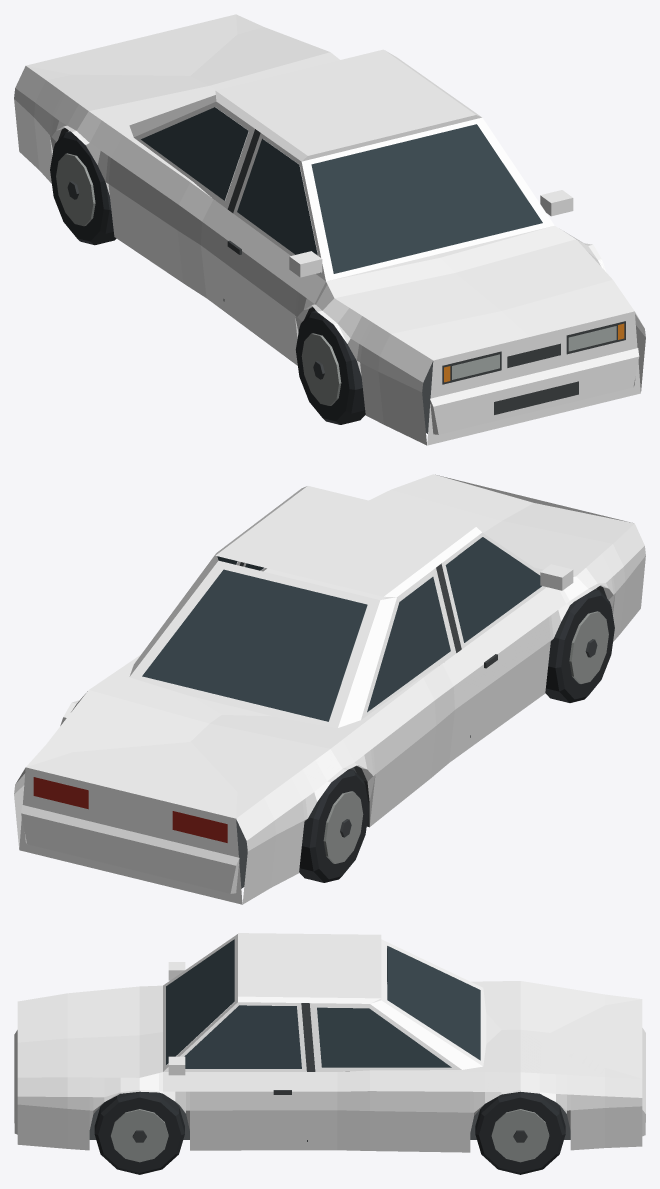
Rendered from kanaya_hakucho.glb.
The picture shows the model from 3 angles, top to bottom: view 1: azimuth 30°, elevation 25°; view 2: azimuth 150°, elevation 25°; view 3: azimuth 270°, elevation 25°; orthographic projection. The views are drawn at different scales.
Parts seen in each view (by area): view 1: kanaya_hakucho; view 2: kanaya_hakucho; view 3: kanaya_hakucho.
Boxes of the visible parts, <box> form: kanaya_hakucho: <box>14,14,645,445</box>; kanaya_hakucho: <box>14,474,645,904</box>; kanaya_hakucho: <box>14,933,645,1174</box>.
Bounding box in the file's own units: 1.75 × 1.26 × 4.48.
Materials: 8 (1 with a texture image).
